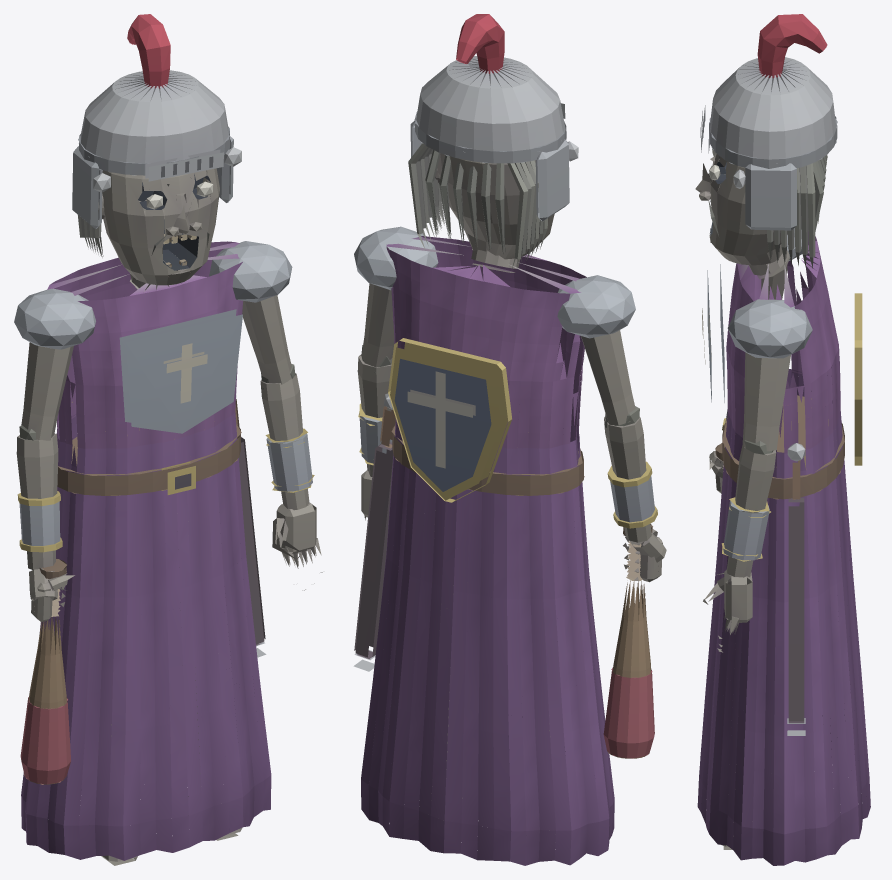
File: GrannyKnight.glb
3 renders of one model, left to right at view 1: azimuth 30°, elevation 25°; view 2: azimuth 150°, elevation 25°; view 3: azimuth 270°, elevation 25°, orthographic.
Parts seen in each view (by area): view 1: Body, Head, ArmR, ArmL; view 2: Body, Head, ArmR, ArmL; view 3: Body, Head, ArmL, ArmR.
Part boxes in pixels (box(x1,y1,x2,y2)): Body: box(21, 241, 271, 860); Head: box(72, 14, 241, 285); ArmR: box(14, 288, 95, 784); ArmL: box(209, 241, 322, 590); Body: box(353, 236, 614, 865); Head: box(408, 14, 578, 268); ArmR: box(557, 275, 666, 758); ArmL: box(354, 226, 438, 520); Body: box(697, 232, 870, 865); Head: box(695, 14, 837, 268); ArmL: box(703, 299, 812, 652); ArmR: box(709, 228, 802, 493).
Bounding box in the file's own units: 2.62 × 6.89 × 1.41.
